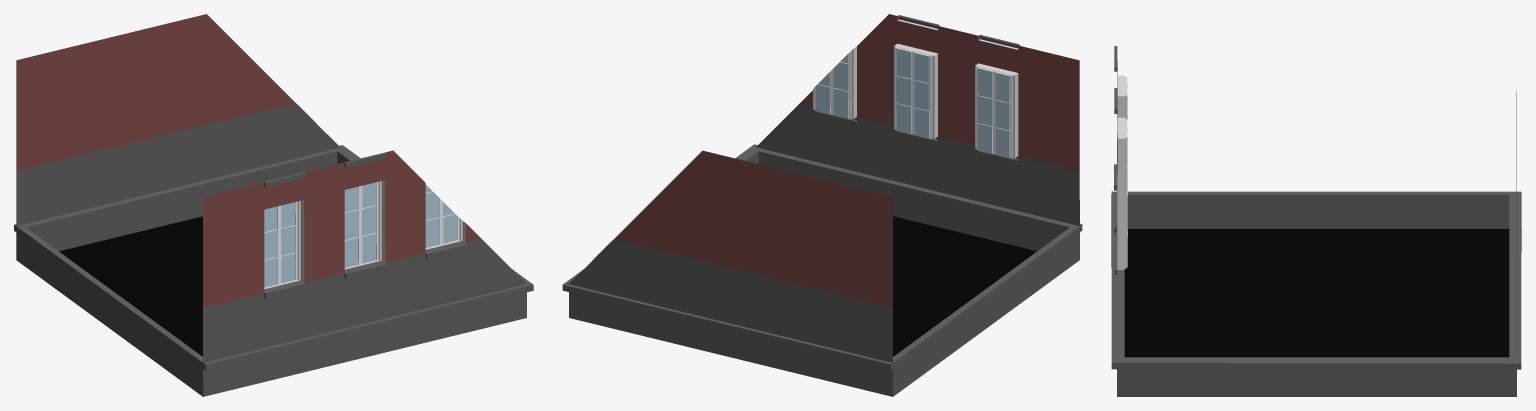
The model's file is House_foundation_sliced_variation.fbx.
3 renders of one model, left to right at view 1: azimuth 30°, elevation 25°; view 2: azimuth 150°, elevation 25°; view 3: azimuth 270°, elevation 25°, orthographic. The views are drawn at different scales.
Visible parts, largest first — view 1: Cube; view 2: Cube; view 3: Cube.
Boxes of the visible parts, <box> form: Cube: <box>14,14,533,396</box>; Cube: <box>562,14,1082,396</box>; Cube: <box>1111,46,1521,396</box>.
Bounding box in the file's own units: 2028 × 1179 × 2050.
